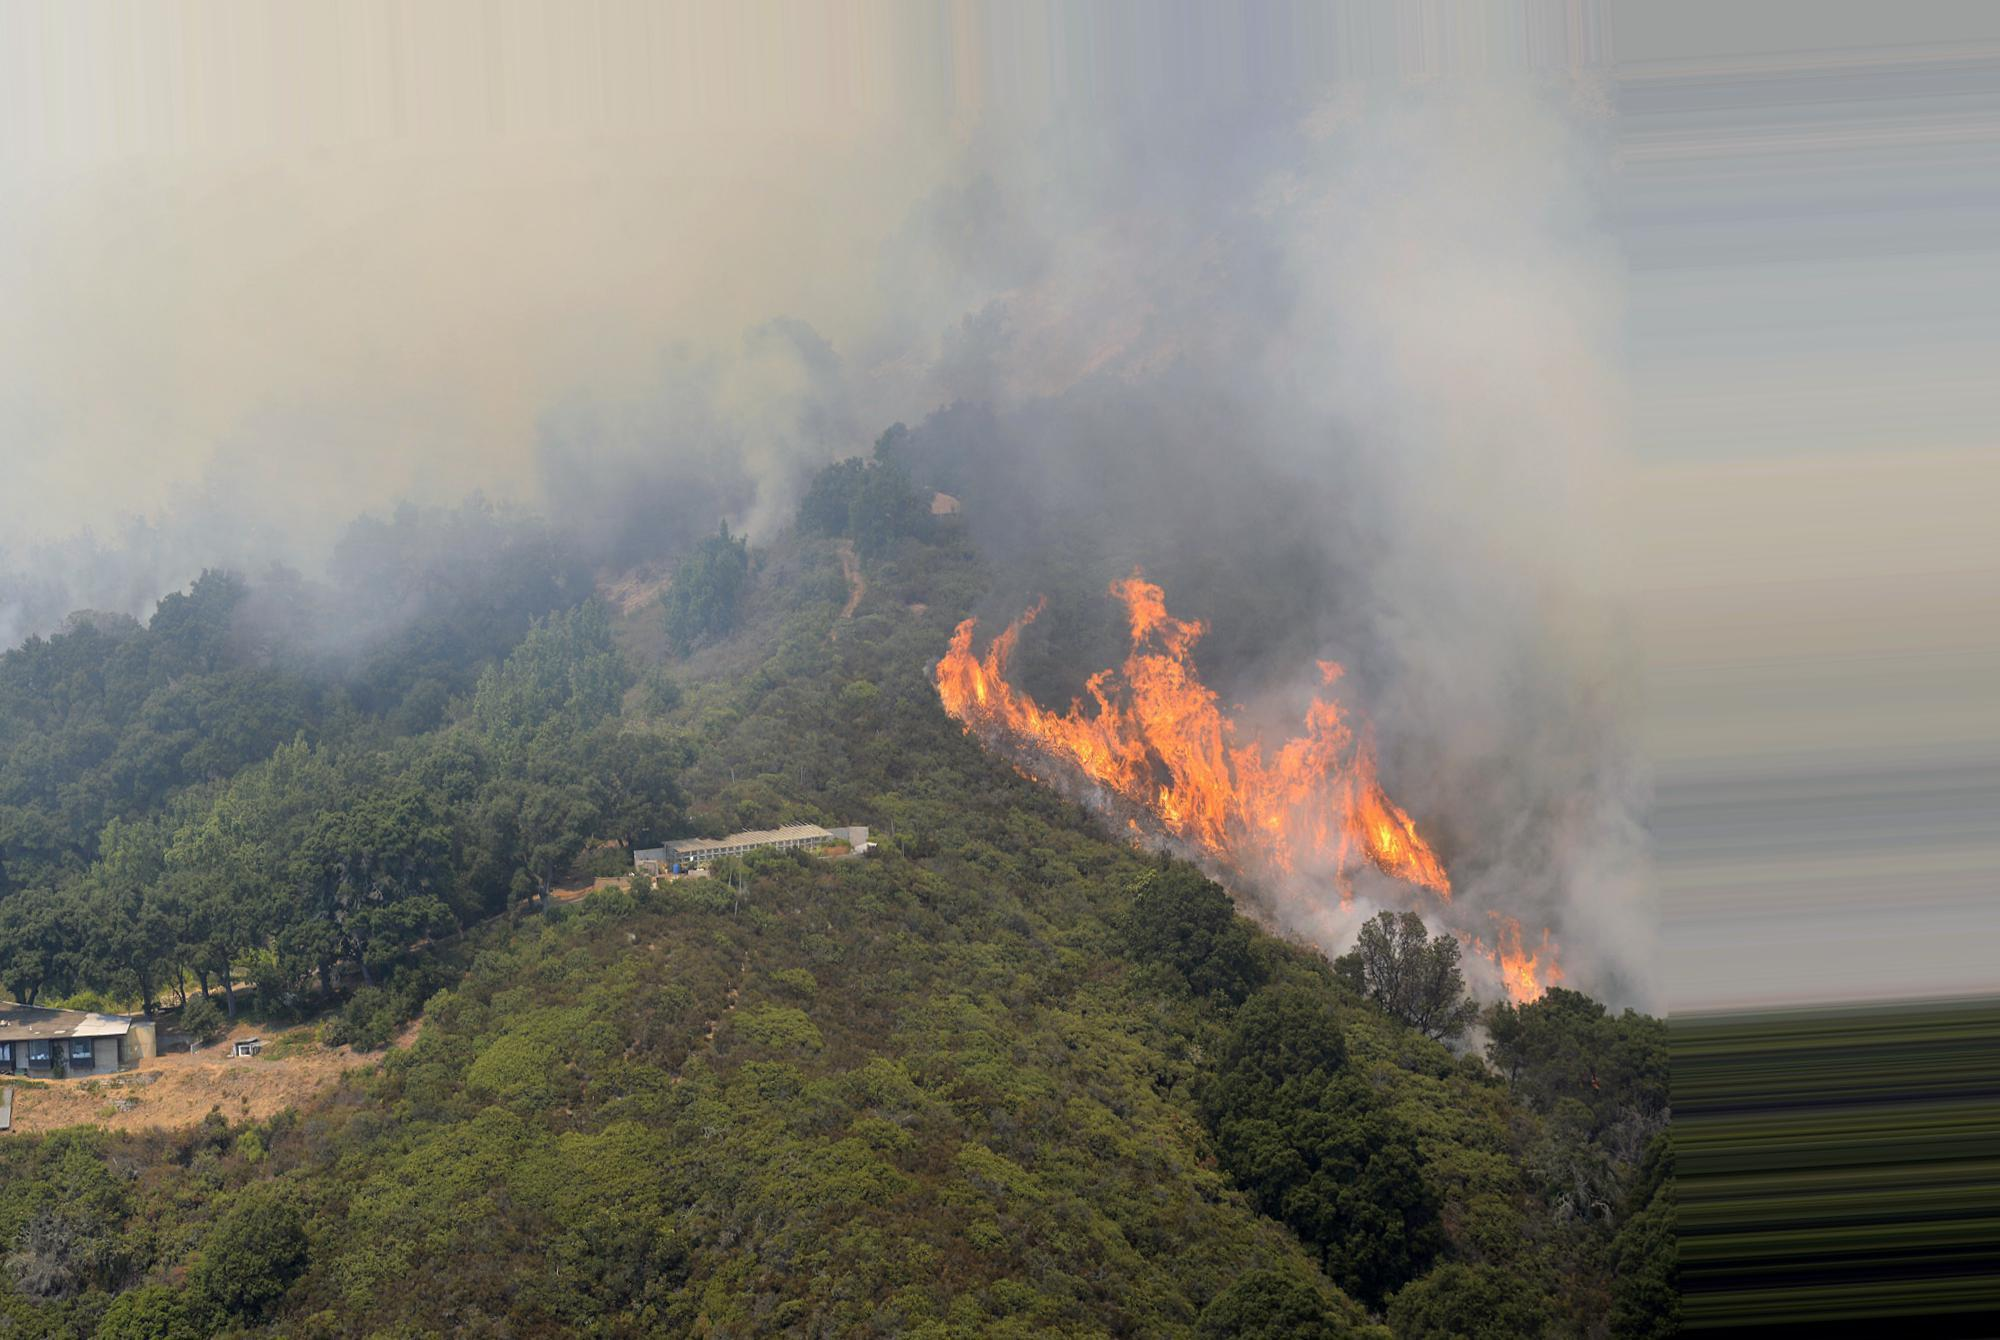fire: (915, 543, 1457, 900), (1453, 905, 1586, 1039)
